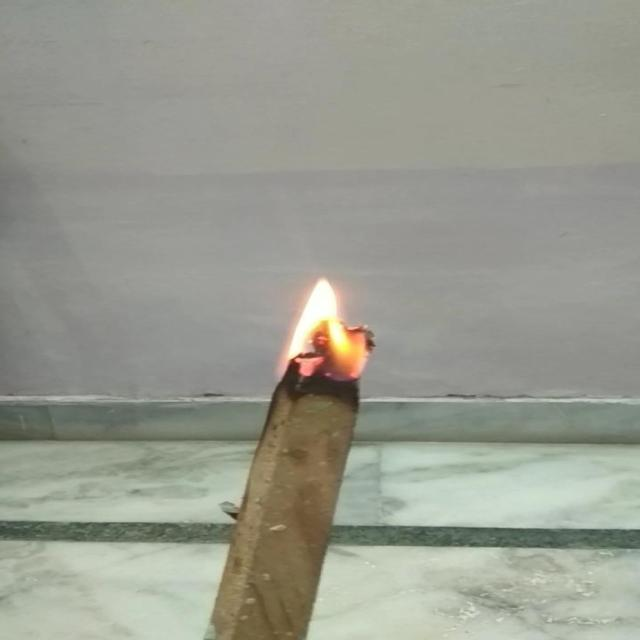smoke: (262, 271, 385, 388)
